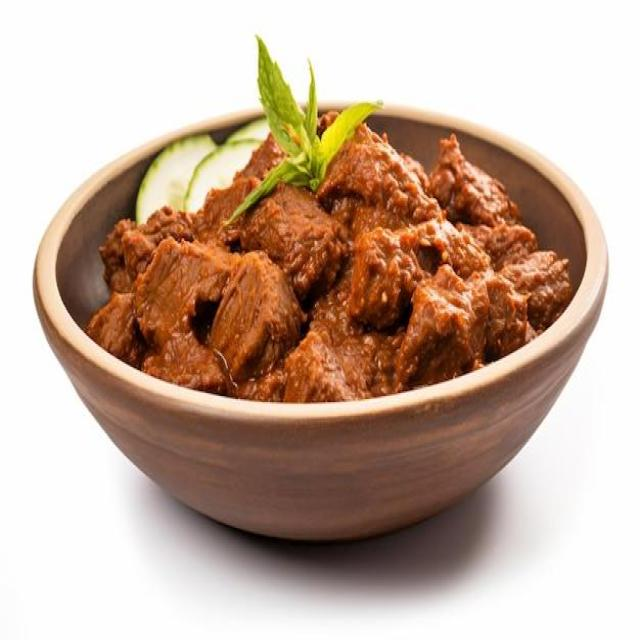Rendang: (91, 125, 586, 422)
